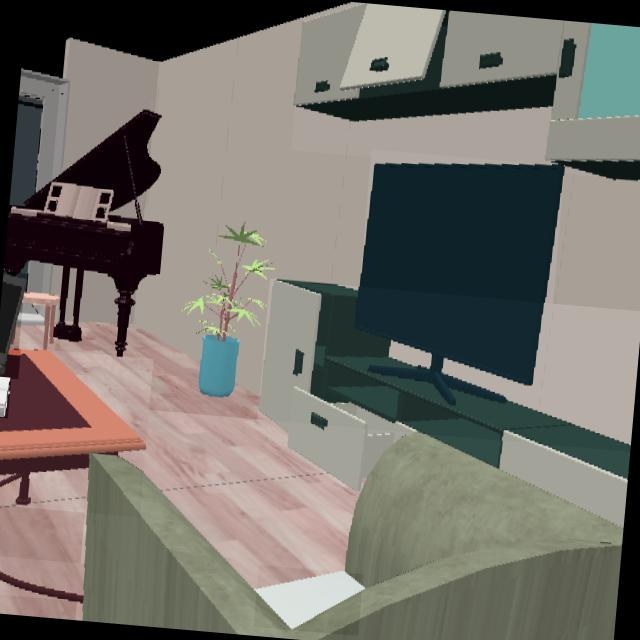book: (0, 377, 11, 418)
cabinet: (259, 280, 629, 528), (295, 2, 640, 180)
chair: (22, 292, 59, 351)
laptop: (0, 271, 26, 378)
monitor: (355, 164, 564, 407)
pillow: (256, 572, 362, 629)
sofa: (82, 433, 622, 640)
table: (0, 349, 145, 506), (0, 570, 83, 601)
